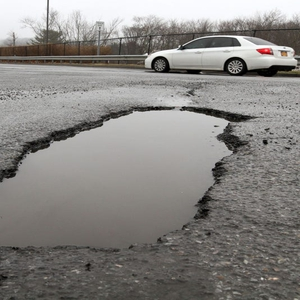pothole: (1, 103, 254, 254)
